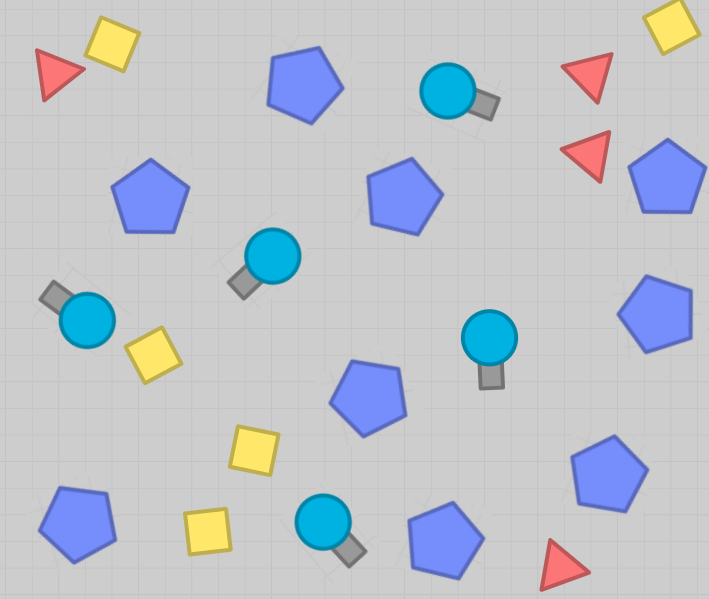Pentagon: (324, 356, 409, 439), (264, 44, 346, 128), (363, 155, 445, 238), (37, 483, 118, 567), (406, 498, 486, 582), (569, 434, 650, 515), (615, 273, 695, 355), (626, 136, 709, 215), (107, 157, 192, 234)
Player: (292, 488, 368, 573), (33, 278, 117, 351), (417, 59, 504, 127), (226, 224, 303, 300), (456, 308, 520, 391)
Square: (121, 324, 184, 388), (83, 15, 144, 74), (639, 0, 702, 57), (226, 424, 283, 477), (179, 505, 235, 556)
Triangle: (554, 128, 616, 187), (29, 43, 86, 106), (534, 536, 594, 593), (556, 50, 616, 106)
